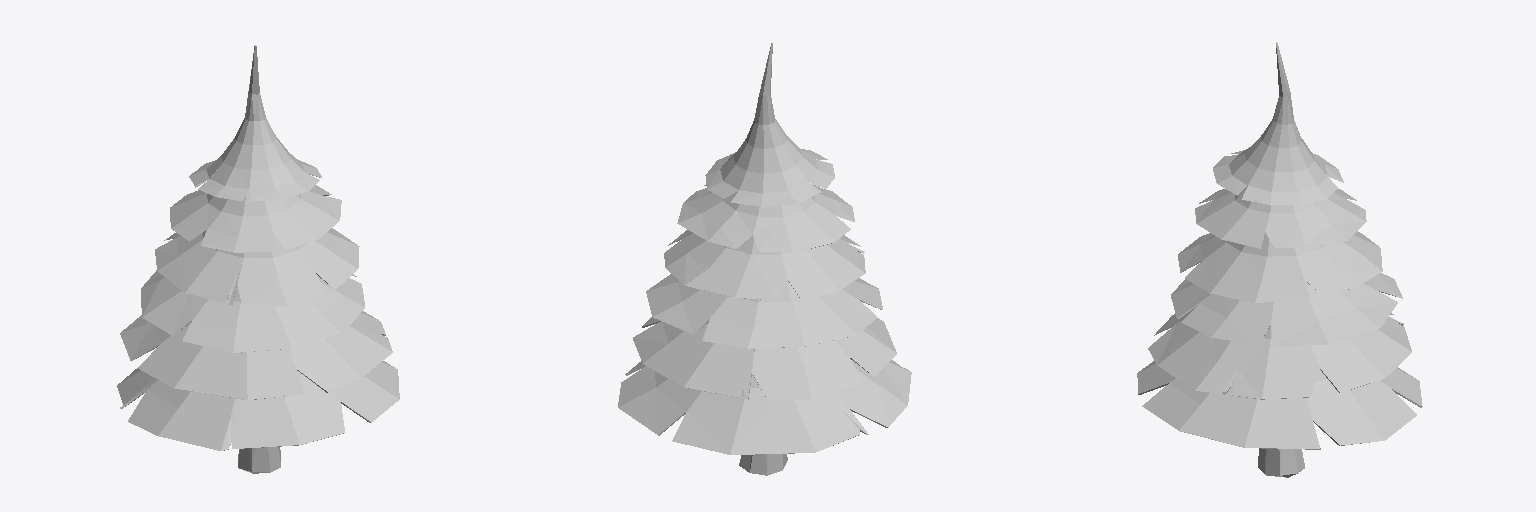
File: Arbol2.obj
3 renders of one model, left to right at view 1: azimuth 30°, elevation 25°; view 2: azimuth 150°, elevation 25°; view 3: azimuth 270°, elevation 25°, orthographic.
Parts seen in each view (by area): view 1: Arbol2_Nature_Mat_01.002; view 2: Arbol2_Nature_Mat_01.002; view 3: Arbol2_Nature_Mat_01.002.
Part boxes in pixels (x1,y1,x2,y2): Arbol2_Nature_Mat_01.002: (117,45,399,473); Arbol2_Nature_Mat_01.002: (618,43,911,475); Arbol2_Nature_Mat_01.002: (1137,42,1422,477).
Bounding box in the file's own units: 22.97 × 37.46 × 22.81.